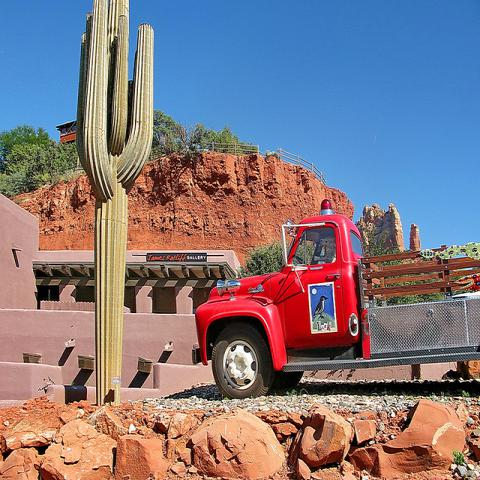truck: (198, 212, 479, 400)
